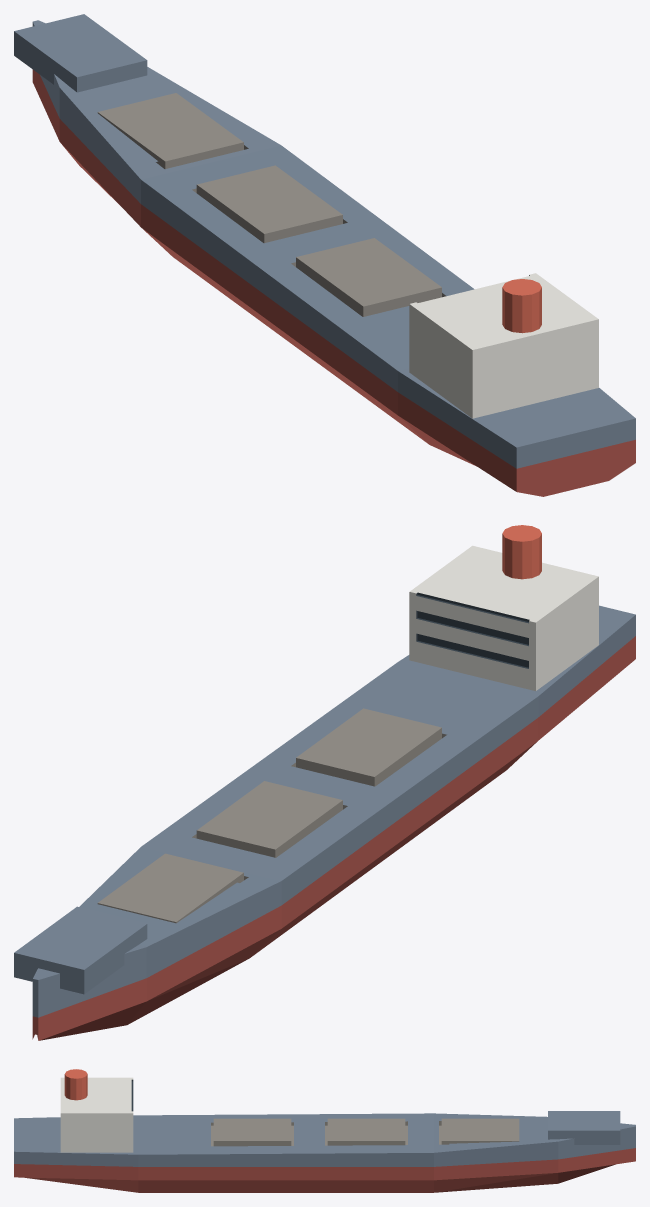
File: freighter_lod1.glb
3 views of the same model, one above another, from view 1: azimuth 30°, elevation 25°; view 2: azimuth 150°, elevation 25°; view 3: azimuth 270°, elevation 25° (orthographic). The views are drawn at different scales.
Visible parts, largest first — view 1: freighter_lod1; view 2: freighter_lod1; view 3: freighter_lod1.
Part boxes in pixels (x1,y1,x2,y2): freighter_lod1: [14, 14, 635, 496]; freighter_lod1: [14, 525, 635, 1040]; freighter_lod1: [14, 1069, 635, 1192].
Size of the model in its own units: 18 by 23 by 120.
